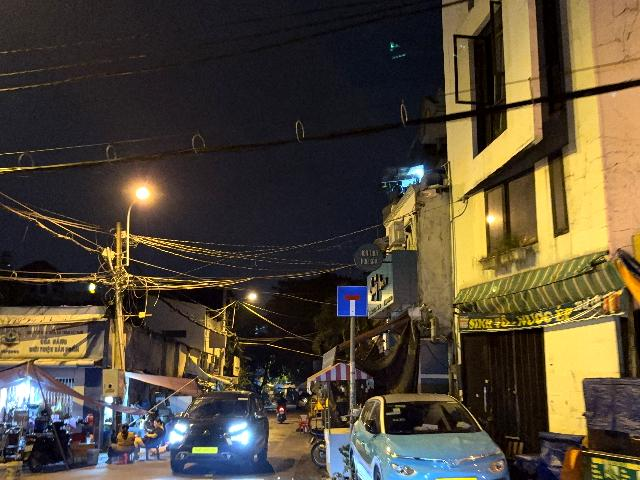duong-cut: (337, 286, 367, 316)
